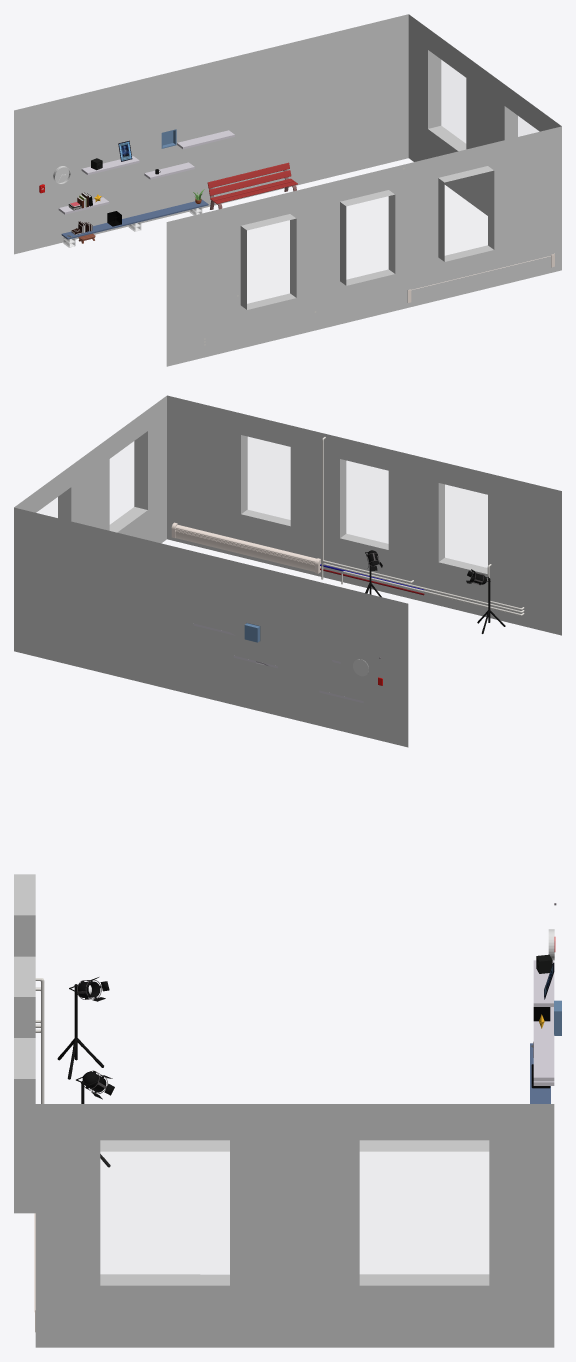
Rendered from room_1_com_finish.gltf.
The picture shows the model from 3 angles, top to bottom: view 1: azimuth 30°, elevation 25°; view 2: azimuth 150°, elevation 25°; view 3: azimuth 270°, elevation 25°; orthographic projection. The views are drawn at different scales.
Parts seen in each view (by area): view 1: Cylinder; view 2: Cylinder; view 3: Cylinder.
Boxes of the visible parts, box(x1,y1,x2,y2) form: Cylinder: box(14, 14, 561, 366); Cylinder: box(14, 395, 561, 747); Cylinder: box(14, 874, 561, 1347).
Size of the model in its own units: 14.79 by 5.01 by 10.14.
Materials: 89 (2 with a texture image).
